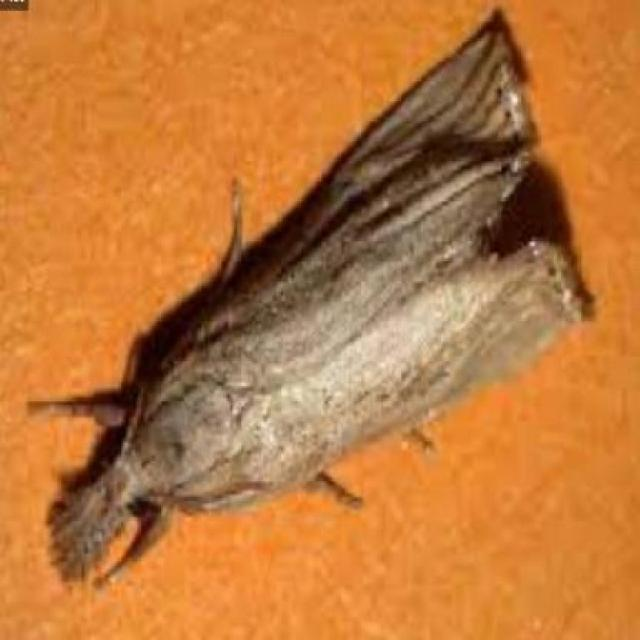stem-borer: (29, 17, 591, 588)
